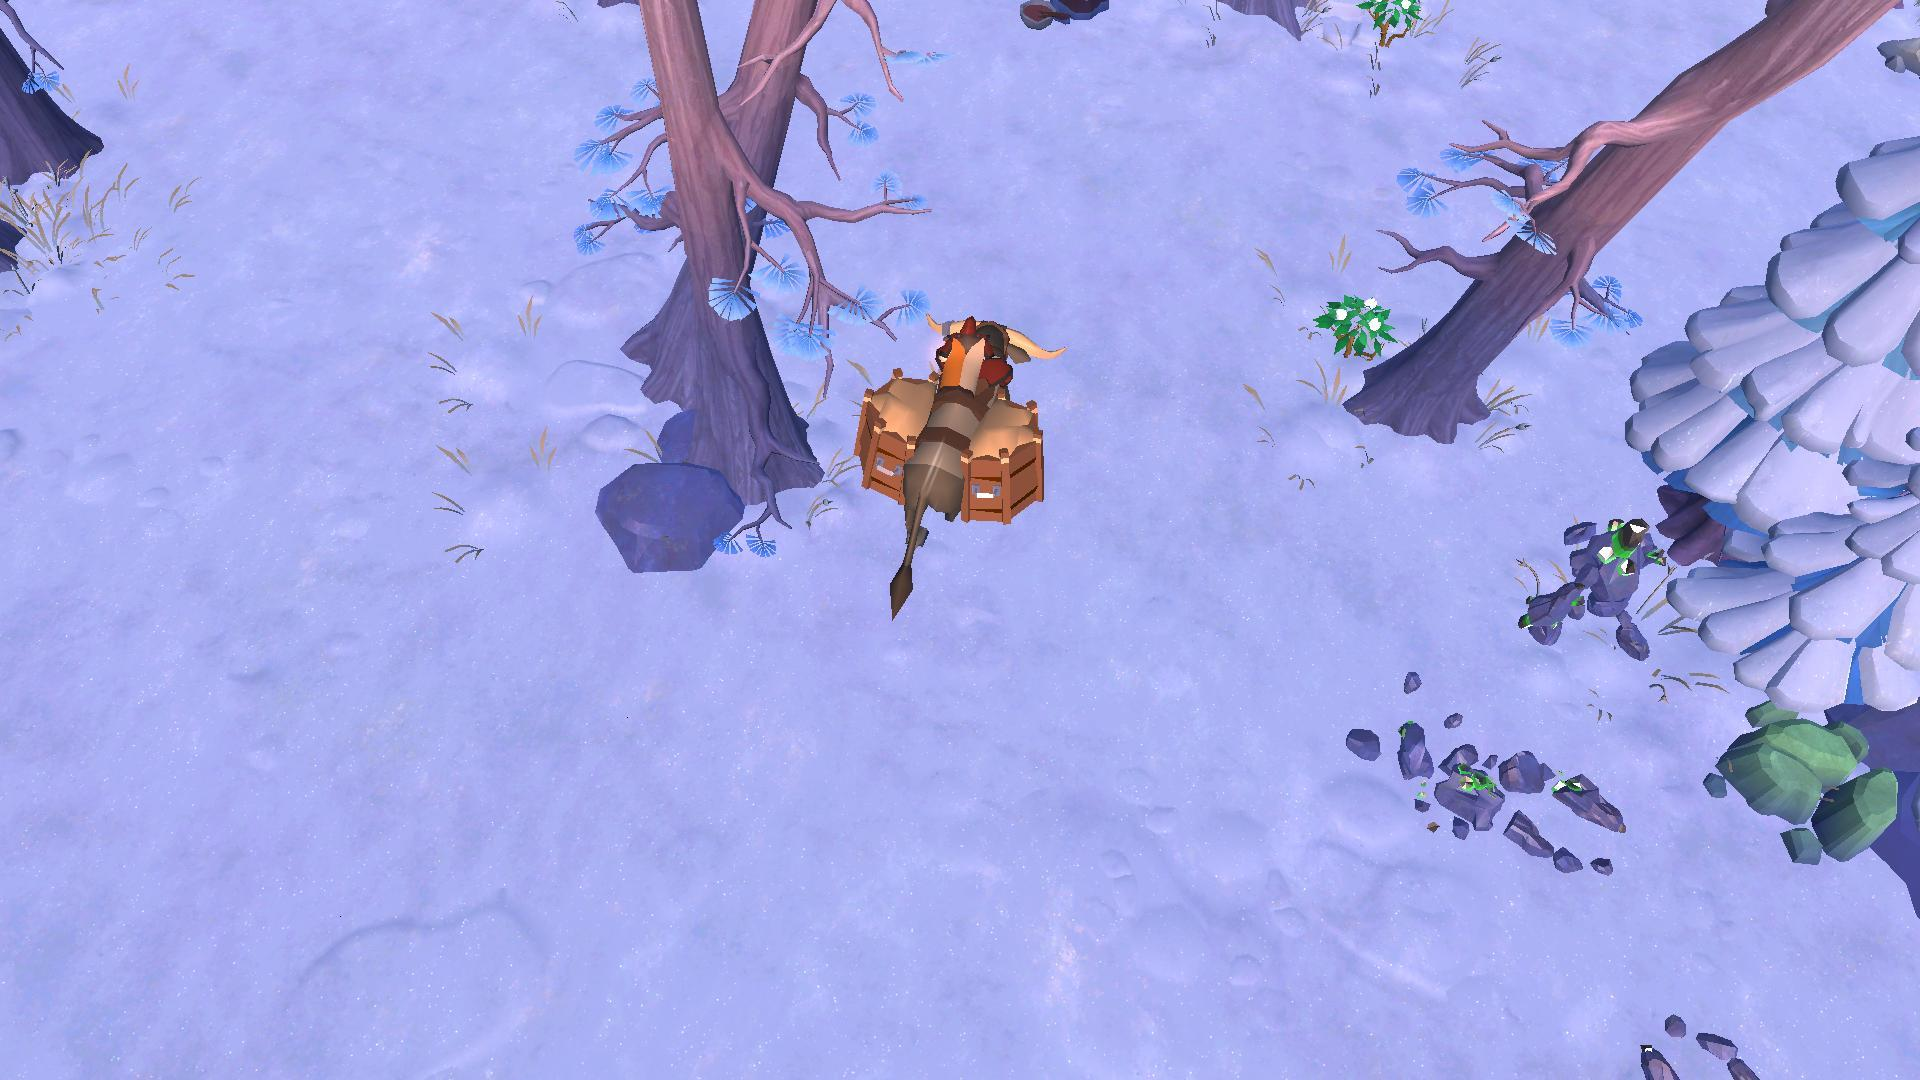fiber_t3: (1317, 287, 1394, 368), (1356, 0, 1424, 49)
rock_t3: (1706, 679, 1896, 877)
